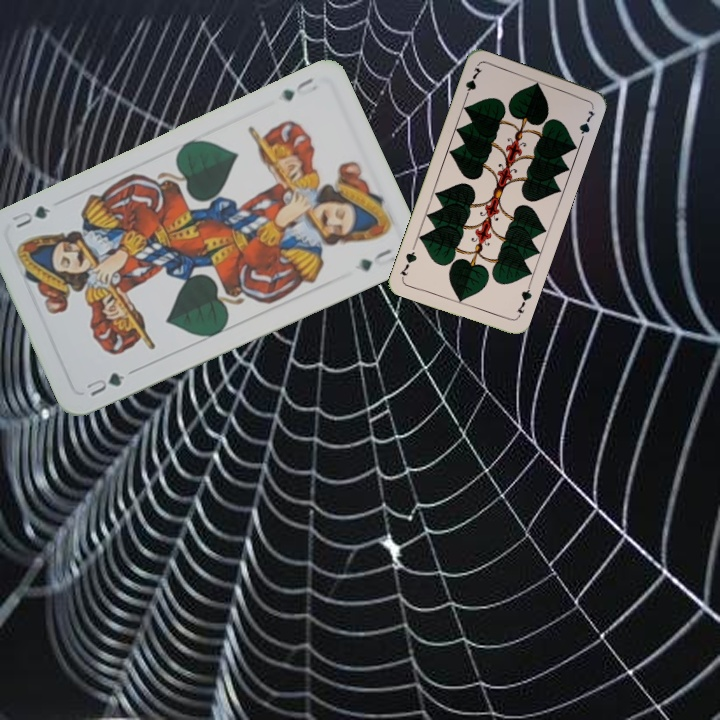G7: (461, 63, 485, 102), (512, 281, 534, 321)
GU: (82, 368, 128, 399), (277, 74, 320, 104)
